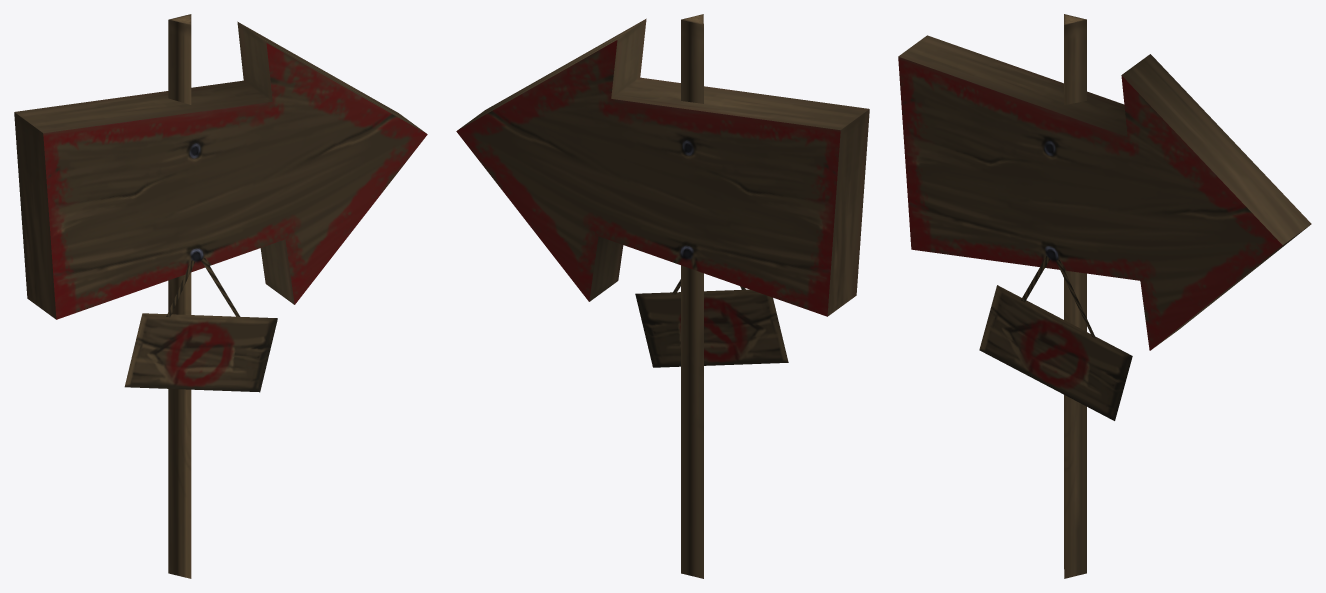
Rendered from Ae_sign_01.FBX.
3 views of the same model, side by side, from view 1: azimuth 30°, elevation 25°; view 2: azimuth 150°, elevation 25°; view 3: azimuth 330°, elevation 25° (orthographic).
Parts seen in each view (by area): view 1: Ae_sign_01; view 2: Ae_sign_01; view 3: Ae_sign_01.
Part boxes in pixels (left/top/right/bottom): Ae_sign_01: left=14, top=14, right=427, bottom=578; Ae_sign_01: left=456, top=14, right=869, bottom=578; Ae_sign_01: left=898, top=14, right=1311, bottom=578.
Size of the model in its own units: 19.82 by 2.61 by 27.28.
